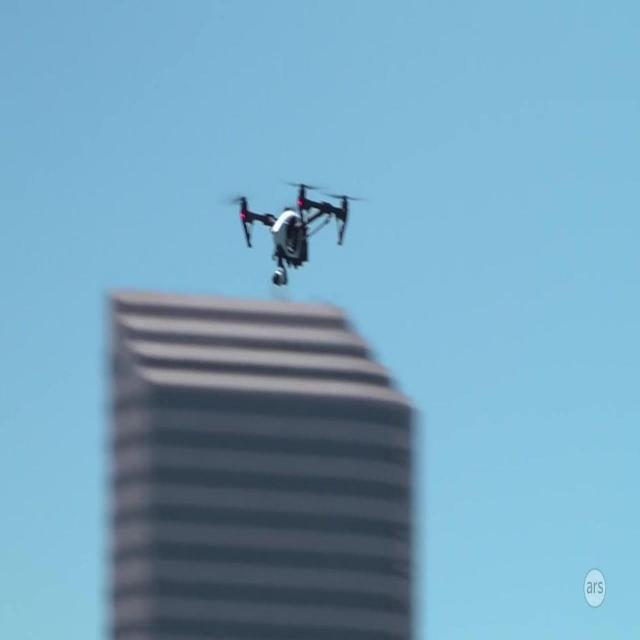UAV: (219, 182, 367, 286)
